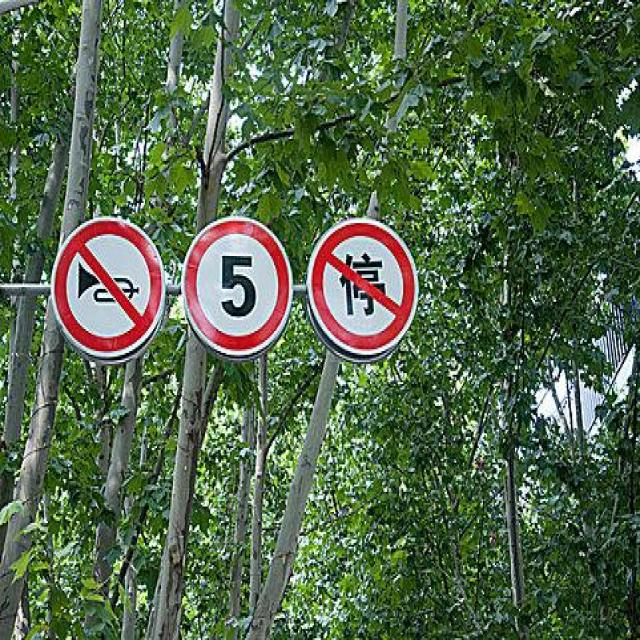speed limit 10: (179, 218, 292, 363)
